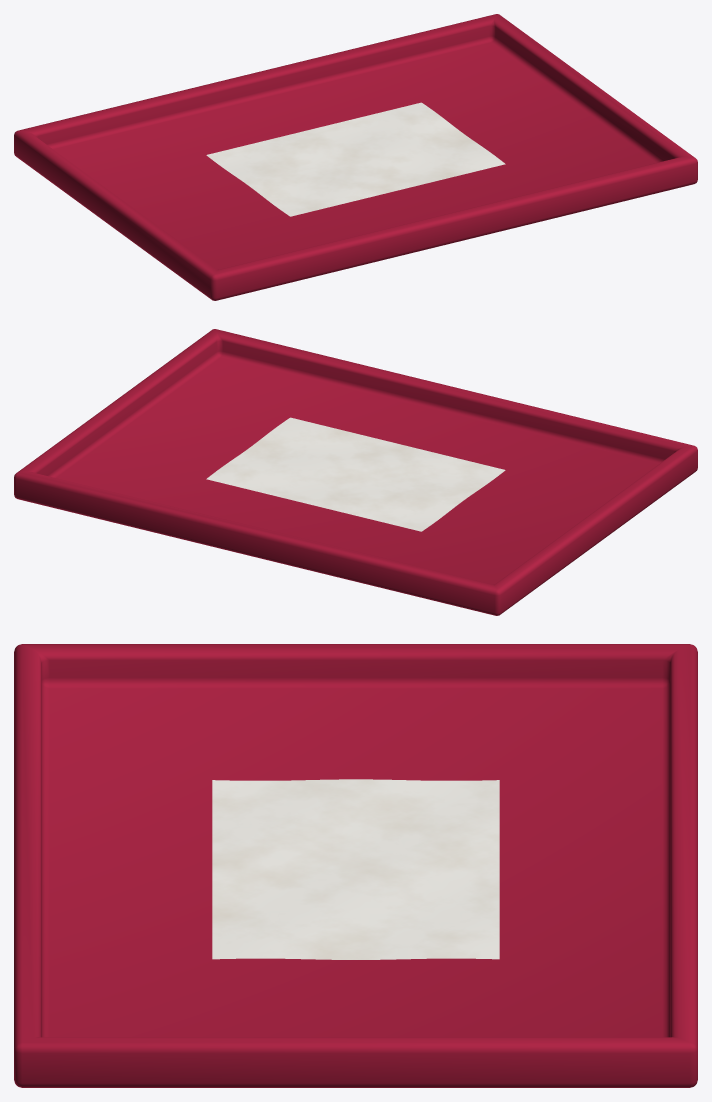
File: tray.glb
3 renders of one model, top to bottom at view 1: azimuth 30°, elevation 25°; view 2: azimuth 150°, elevation 25°; view 3: azimuth 270°, elevation 25°, orthographic. The views are drawn at different scales.
Visible parts, largest first — view 1: tray; view 2: tray; view 3: tray.
Part boxes in pixels (box(x1,y1,x2,y2)): tray: box(14, 14, 697, 300); tray: box(14, 329, 697, 615); tray: box(14, 644, 697, 1087).
Size of the model in its own units: 3.5 by 0.18 by 2.5.
2 materials, 1 textured.
